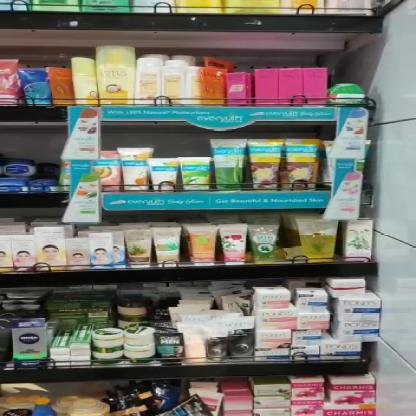EY NAT GLOW ORANGE PEEL OFF AY 90G: (121, 148, 148, 190), (152, 159, 178, 189)
EY RJ CUCUMBER ALOEVERA FACEPAK50G: (180, 157, 210, 190)
